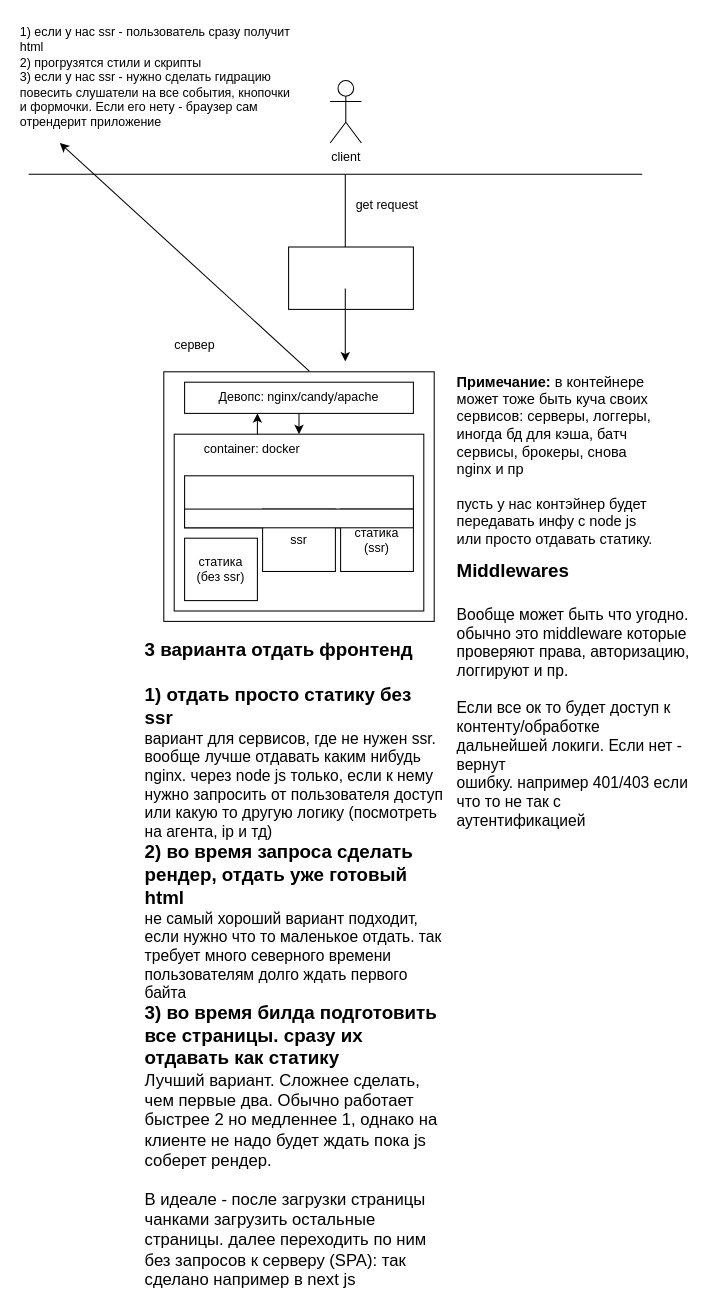
Some shapes in this 711 by 1307 pixel diagram are drawn without their labels. Here are the shapes that lost their labels. From the top down, the box of each, then its label:
(288, 246, 413, 309): DNS: domain -> ip
(184, 475, 413, 528): node js
(184, 508, 413, 528): middlewares
